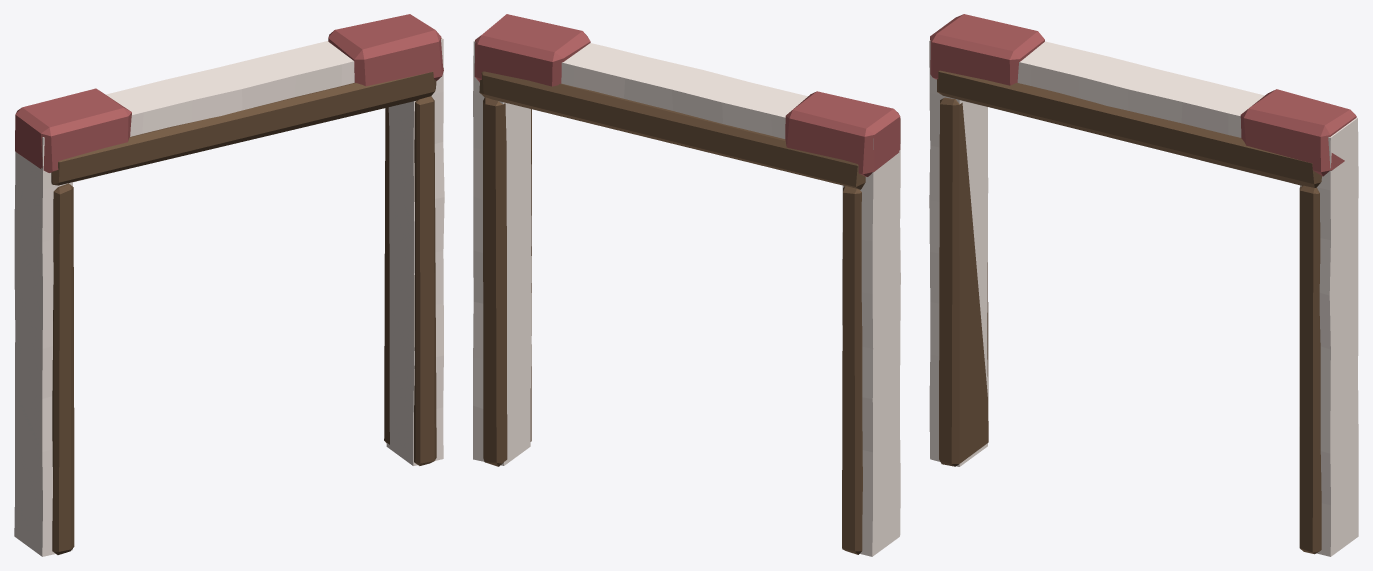
Rendered from PKX_Wall_Garage.fbx.
3 renders of one model, left to right at view 1: azimuth 30°, elevation 25°; view 2: azimuth 150°, elevation 25°; view 3: azimuth 330°, elevation 25°, orthographic.
Visible parts, largest first — view 1: PKX_Wall_Garage; view 2: PKX_Wall_Garage; view 3: PKX_Wall_Garage.
Boxes of the visible parts, x1,y1,x2,y2 form: PKX_Wall_Garage: (14,14,444,556); PKX_Wall_Garage: (473,14,900,556); PKX_Wall_Garage: (929,14,1358,556).
Size of the model in its own units: 201 by 205 by 31.83.
